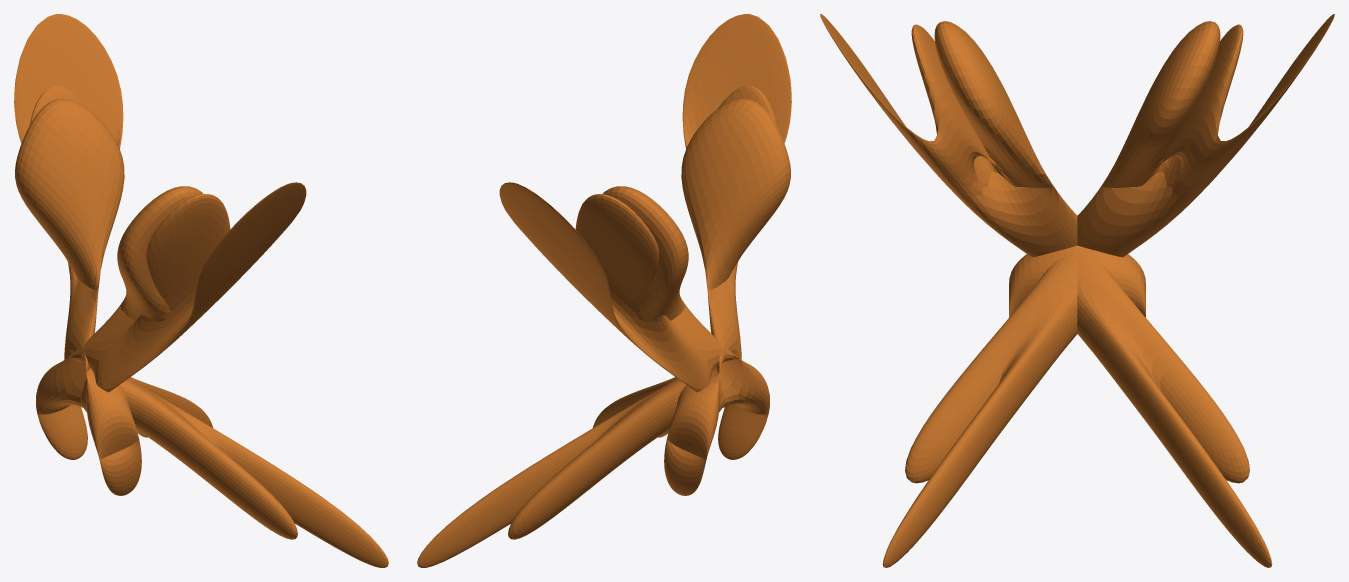
The model's file is Creaturestruc17.obj.
3 views of the same model, side by side, from view 1: azimuth 30°, elevation 25°; view 2: azimuth 150°, elevation 25°; view 3: azimuth 270°, elevation 25° (orthographic). The views are drawn at different scales.
Visible parts, largest first — view 1: Cube_Cube.018; view 2: Cube_Cube.018; view 3: Cube_Cube.018.
Boxes of the visible parts, x1,y1,x2,y2 form: Cube_Cube.018: [14, 14, 388, 567]; Cube_Cube.018: [417, 14, 791, 567]; Cube_Cube.018: [820, 14, 1334, 567].
Size of the model in its own units: 10.57 by 18.68 by 18.05.
